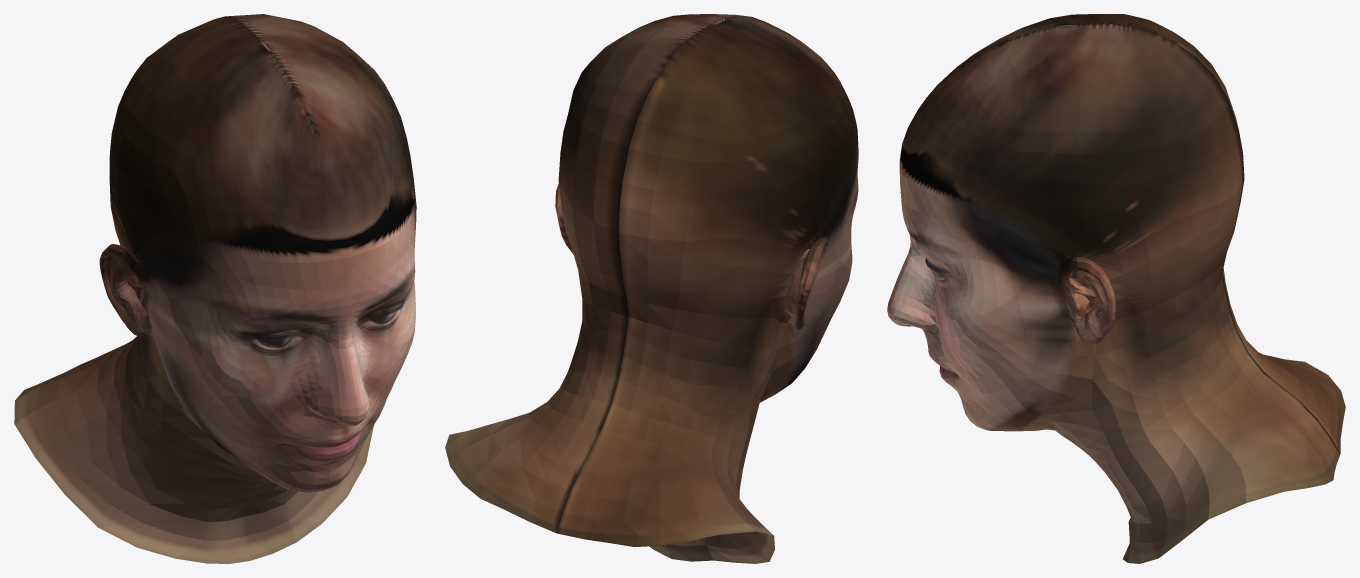
Rendered from face_video_frame0300.obj.
The picture shows the model from 3 angles, left to right: view 1: azimuth 30°, elevation 25°; view 2: azimuth 150°, elevation 25°; view 3: azimuth 270°, elevation 25°; orthographic projection. The views are drawn at different scales.
Size of the model in its own units: 0.2087 by 0.326 by 0.261.
1 material, 1 textured.
